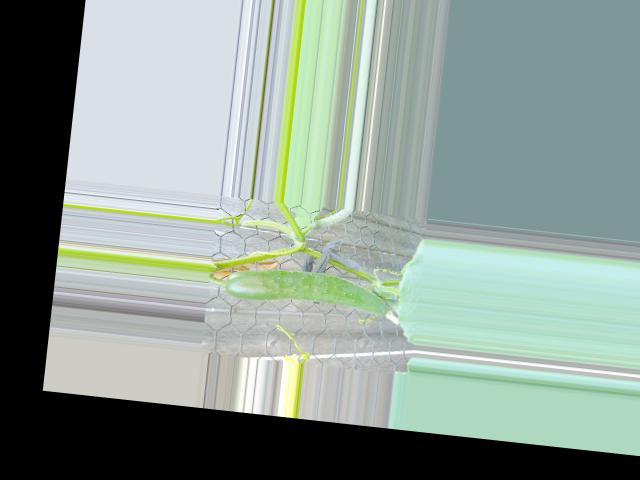cucumber: (223, 262, 389, 315)
